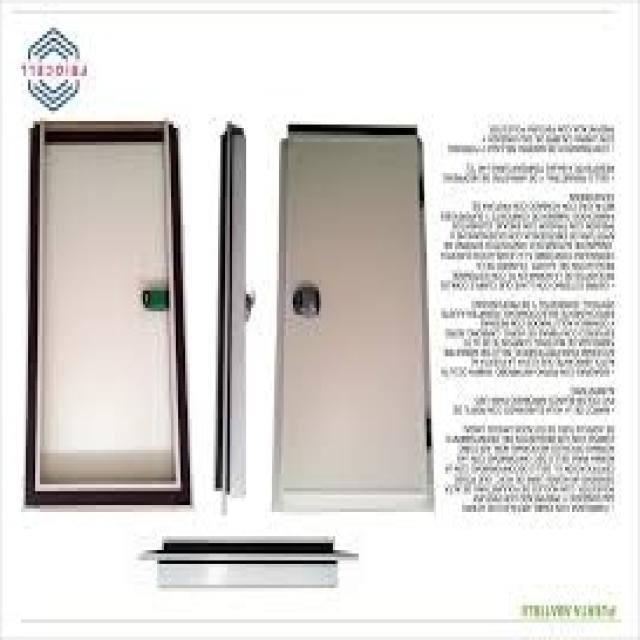door: (273, 125, 433, 512)
